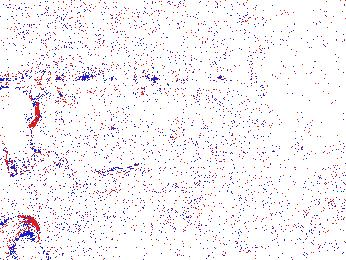flame jellyfish: (1, 86, 42, 177), (185, 194, 238, 247), (1, 214, 49, 260)
